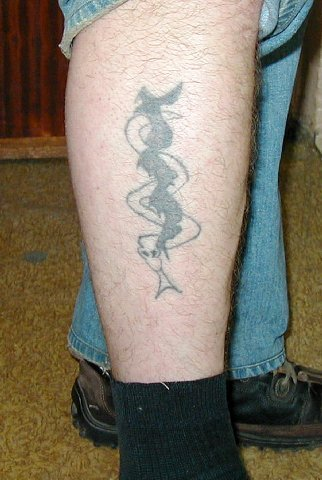tatu7_zmeya: (124, 80, 202, 298)
